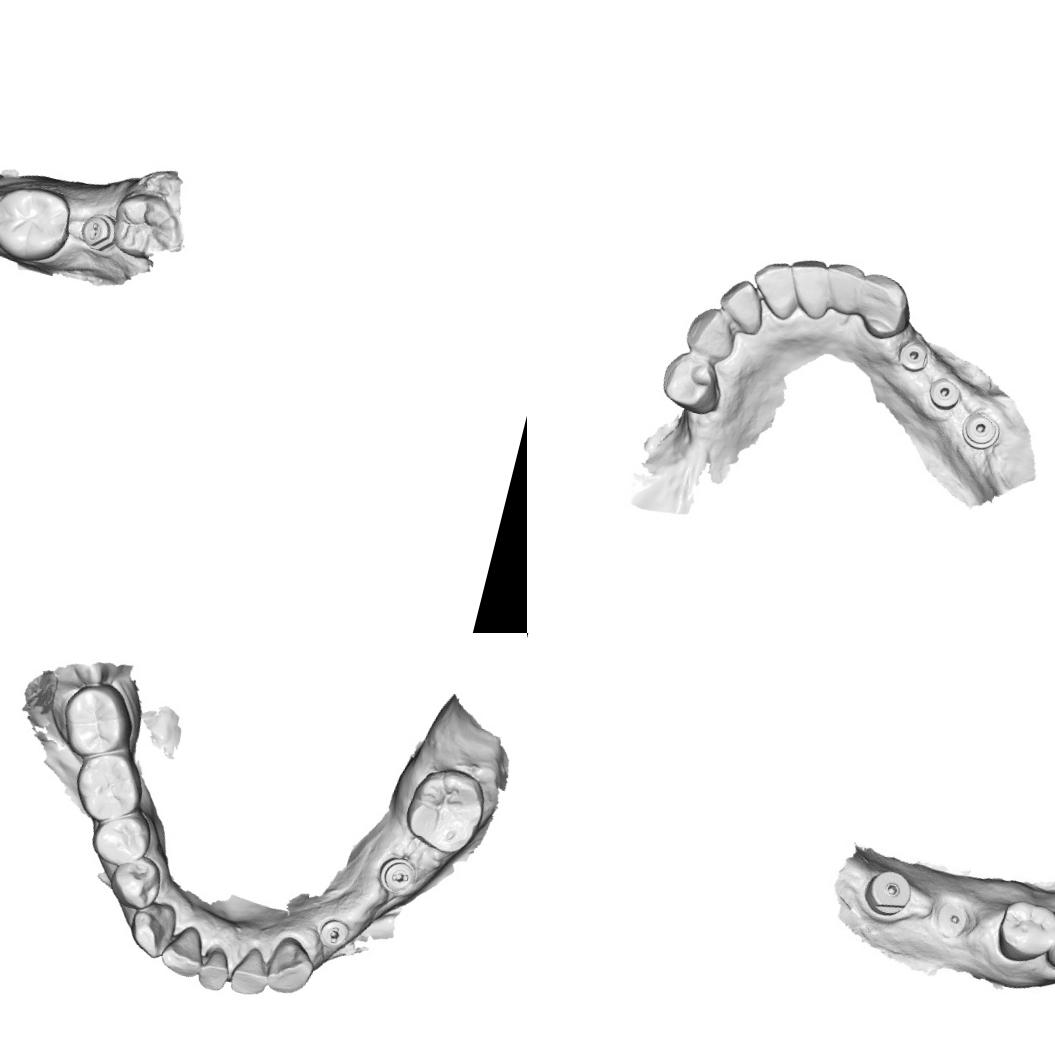canine: (848, 269, 918, 344), (124, 892, 180, 962), (680, 301, 742, 364)
implant: (863, 862, 916, 922), (928, 893, 980, 944), (956, 407, 1004, 454), (924, 373, 963, 413), (893, 336, 932, 375)
implant_minus: (372, 851, 419, 898), (75, 208, 120, 255), (314, 914, 352, 953)
incisor: (744, 254, 808, 322), (778, 252, 838, 322), (261, 932, 319, 1000), (712, 273, 772, 337), (158, 918, 214, 982), (816, 258, 867, 317), (226, 942, 277, 1000), (193, 942, 234, 994)
molar: (397, 758, 494, 860), (52, 674, 140, 766), (66, 740, 152, 830), (0, 177, 78, 270), (104, 184, 188, 266)
premolar: (654, 346, 729, 419), (86, 801, 158, 874), (991, 894, 1055, 965), (103, 848, 167, 915)
